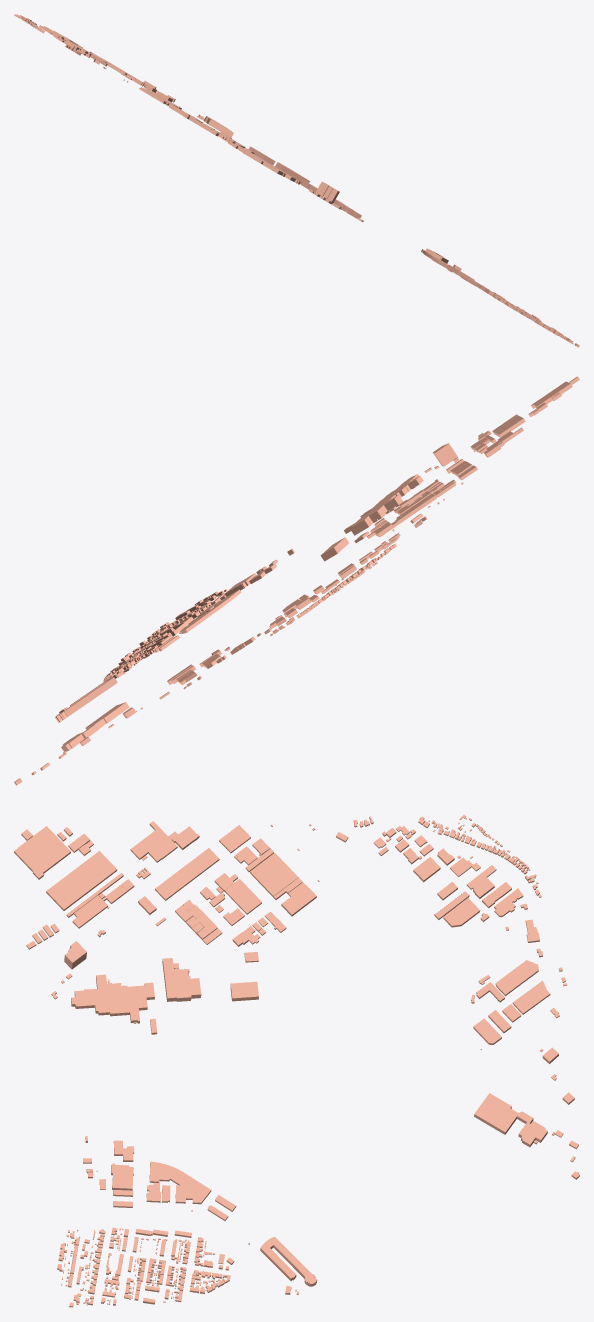
The picture shows the model from 3 angles, top to bottom: view 1: azimuth 30°, elevation 25°; view 2: azimuth 150°, elevation 25°; view 3: azimuth 270°, elevation 25°; orthographic projection. The views are drawn at different scales.
Size of the model in its own units: 1035 by 763 by 1282.
